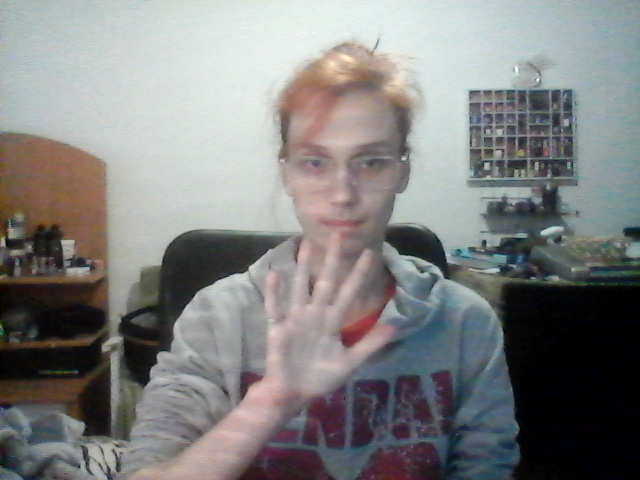ahoj: (253, 227, 401, 402)
